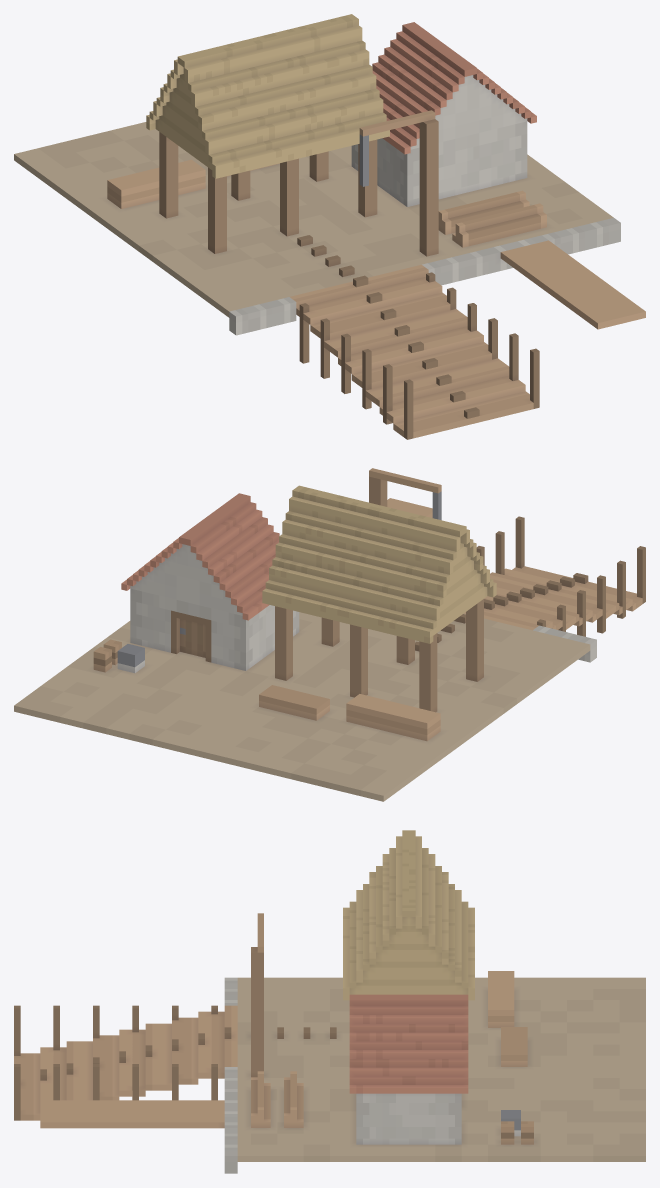
File: shipyard.glb
3 renders of one model, top to bottom at view 1: azimuth 30°, elevation 25°; view 2: azimuth 150°, elevation 25°; view 3: azimuth 270°, elevation 25°, orthographic. The views are drawn at different scales.
Visible parts, largest first — view 1: shipyard; view 2: shipyard; view 3: shipyard.
Boxes of the visible parts, x1,y1,x2,y2 form: shipyard: (14,14,645,439); shipyard: (14,468,645,801); shipyard: (14,830,645,1173).
Size of the model in its own units: 8 by 4.62 by 12.
